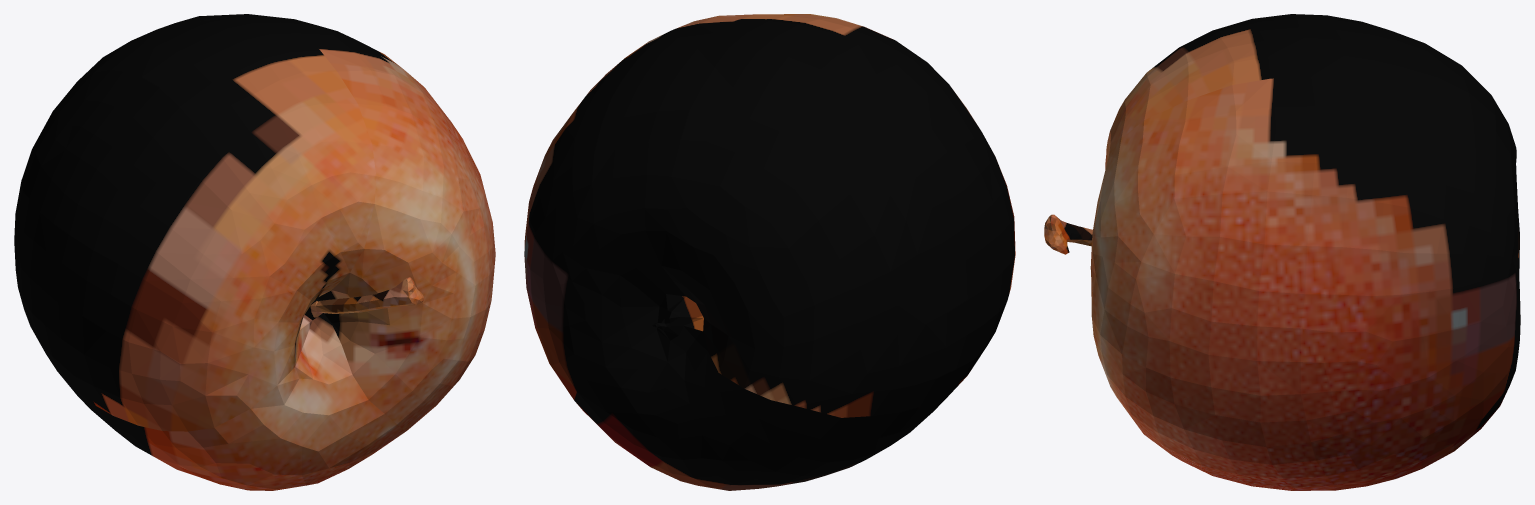
Rendered from textured.baked.glb.
3 renders of one model, left to right at view 1: azimuth 30°, elevation 25°; view 2: azimuth 150°, elevation 25°; view 3: azimuth 270°, elevation 25°, orthographic.
Visible parts, largest first — view 1: apple_low_obj_Material__35_0-mesh; view 2: apple_low_obj_Material__35_0-mesh; view 3: apple_low_obj_Material__35_0-mesh.
Part boxes in pixels (x1,y1,x2,y2): apple_low_obj_Material__35_0-mesh: (14,14,495,490); apple_low_obj_Material__35_0-mesh: (524,14,1015,490); apple_low_obj_Material__35_0-mesh: (1044,14,1520,490).
Size of the model in its own units: 0.08 by 0.08 by 0.08.
Materials: 1 (1 with a texture image).
